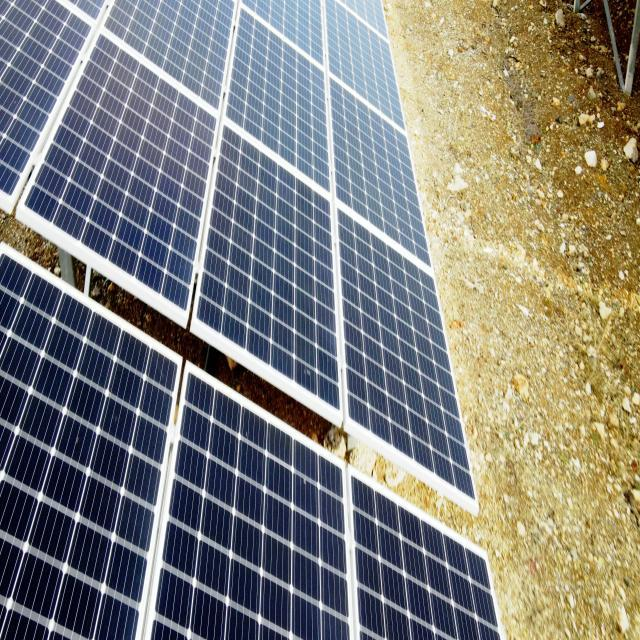no faulty: (1, 245, 178, 640), (146, 359, 354, 636), (22, 27, 204, 310), (191, 116, 349, 420), (334, 202, 480, 506), (347, 470, 503, 640), (326, 72, 444, 266), (218, 7, 328, 189)
